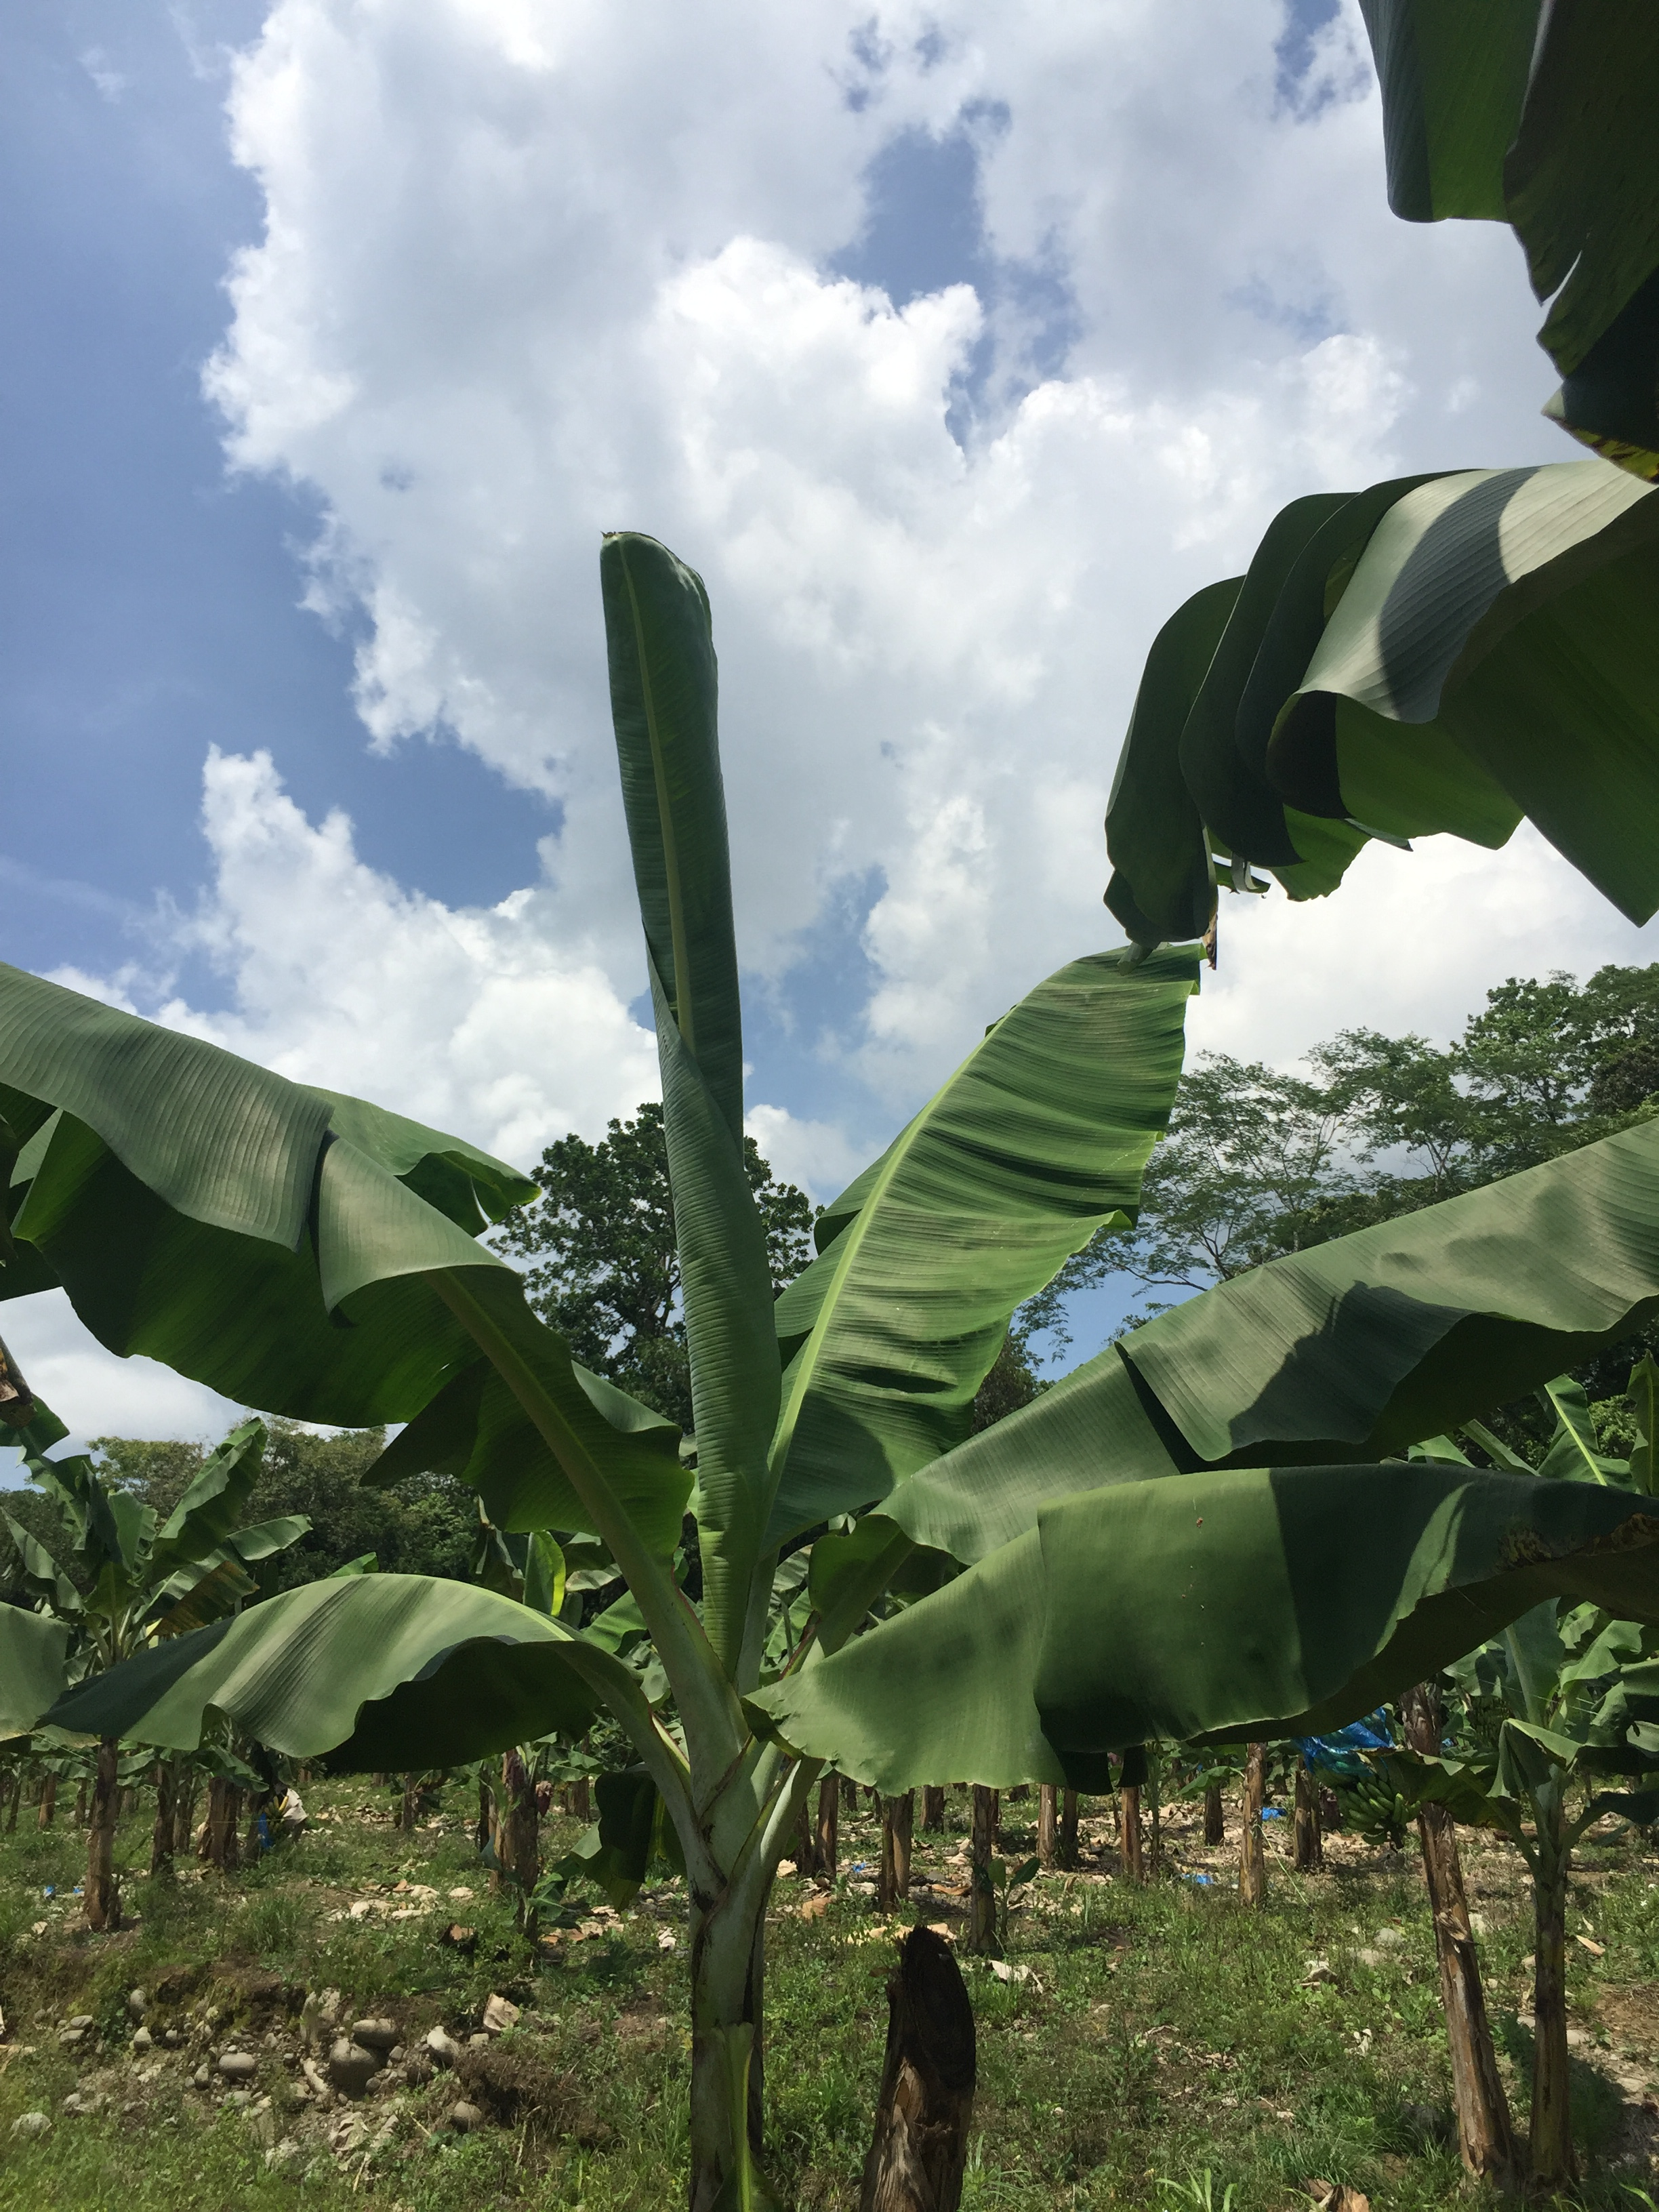candleleafs: (598, 528, 779, 1627)
